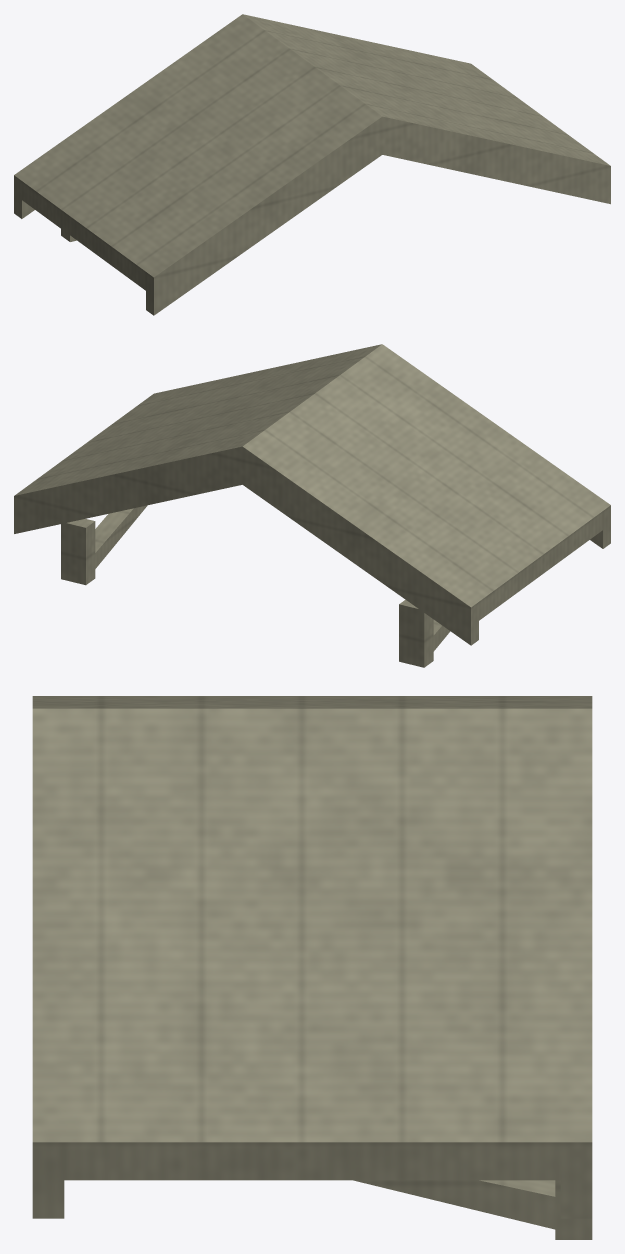
File: residential-gabled-entry-canopy.lod0.glb
3 views of the same model, one above another, from view 1: azimuth 30°, elevation 25°; view 2: azimuth 150°, elevation 25°; view 3: azimuth 270°, elevation 25° (orthographic). The views are drawn at different scales.
Parts seen in each view (by area): view 1: residential-gabled-entry-canopy; view 2: residential-gabled-entry-canopy; view 3: residential-gabled-entry-canopy.
Boxes of the visible parts, x1,y1,x2,y2 form: residential-gabled-entry-canopy: (14, 14, 610, 315); residential-gabled-entry-canopy: (14, 344, 610, 667); residential-gabled-entry-canopy: (32, 696, 592, 1239).
Bounding box in the file's own units: 2 × 0.74 × 1.06.
1 material, 1 textured.
